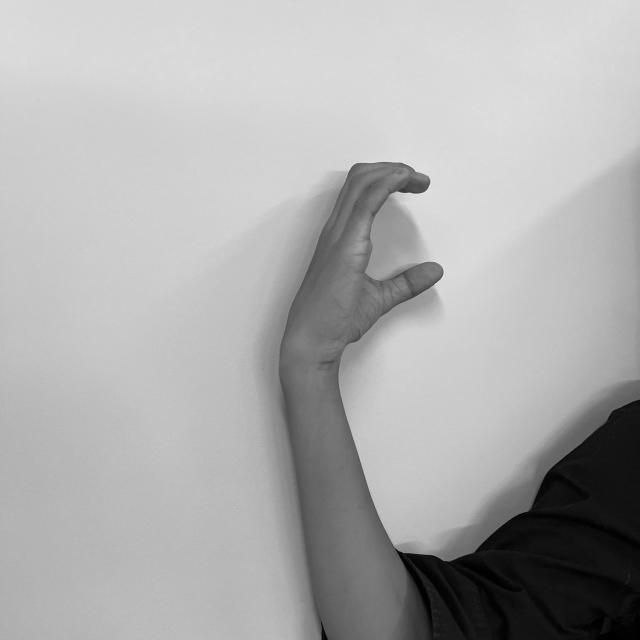Letra C: (274, 154, 448, 368)
